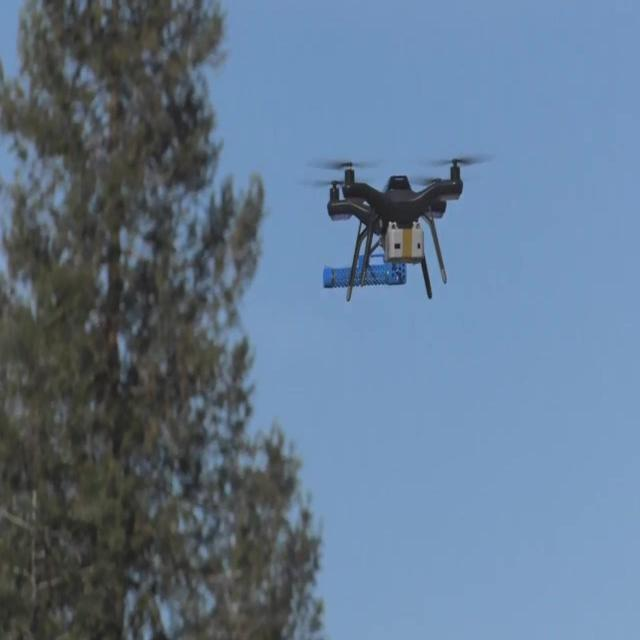drone: (298, 148, 494, 304)
